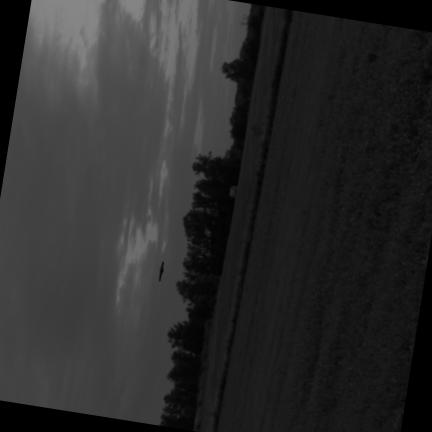Shahed: (158, 259, 164, 282)
